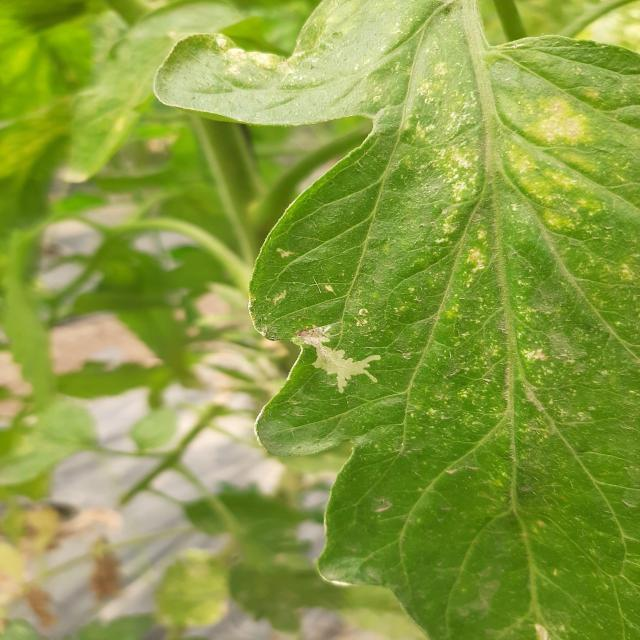Tuta absoluta: (283, 311, 390, 406)
